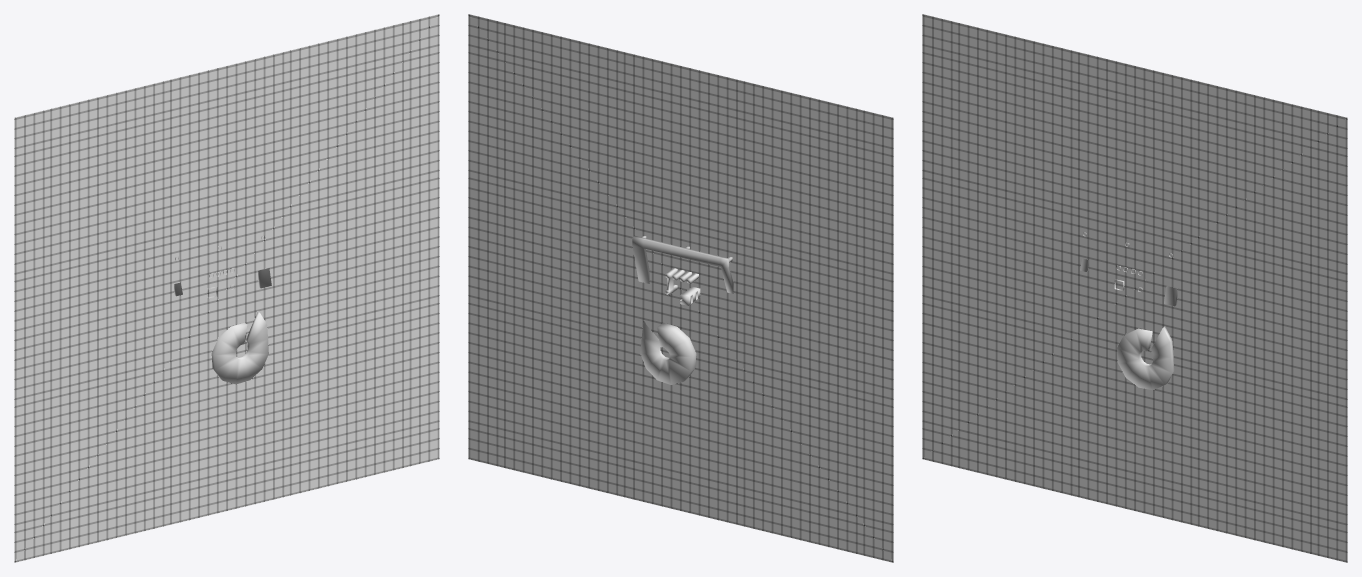
The model's file is NewStage.fbx.
3 views of the same model, side by side, from view 1: azimuth 30°, elevation 25°; view 2: azimuth 150°, elevation 25°; view 3: azimuth 330°, elevation 25° (orthographic).
Parts seen in each view (by area): view 1: Stage; view 2: Stage; view 3: Stage.
Part boxes in pixels (<box>): Stage: <box>14,14,439,562</box>; Stage: <box>468,14,893,562</box>; Stage: <box>922,14,1347,562</box>.
Size of the model in its own units: 1683 by 1683 by 108.
